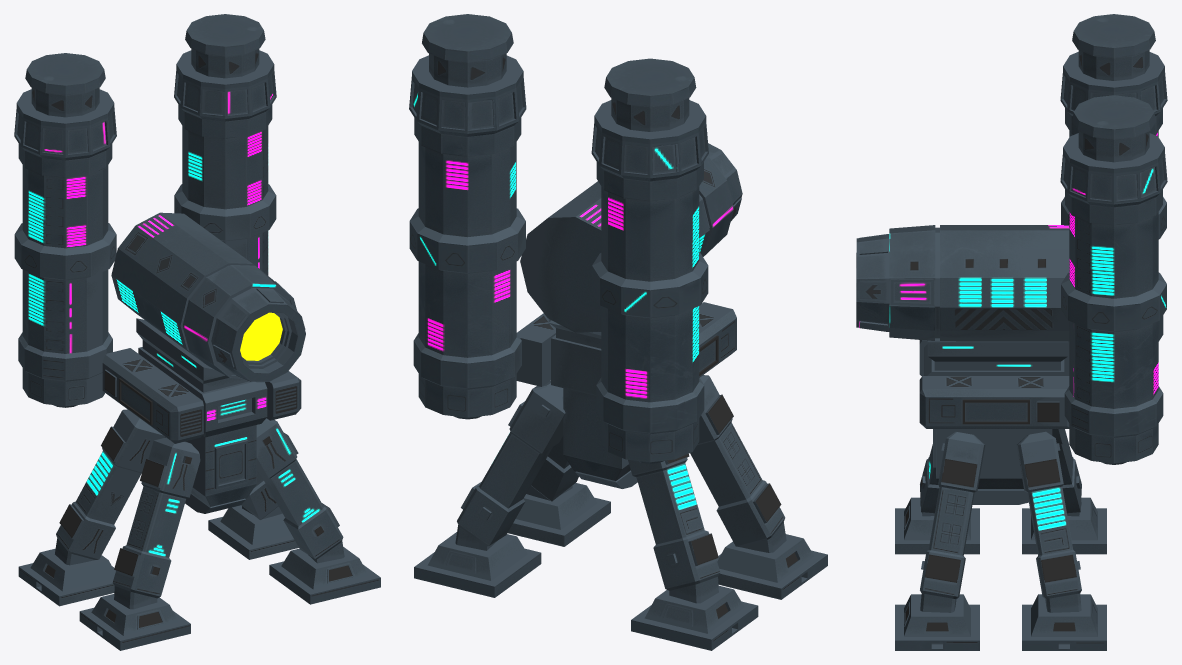
Rendered from fire_gun_tower (1).fbx.
The picture shows the model from 3 angles, left to right: view 1: azimuth 30°, elevation 25°; view 2: azimuth 150°, elevation 25°; view 3: azimuth 270°, elevation 25°; orthographic projection. The views are drawn at different scales.
Parts seen in each view (by area): view 1: Cylinder.001, Cylinder.004, Cylinder.008, Cylinder; view 2: Cylinder.001, Cylinder.004, Cylinder.008, Cylinder; view 3: Cylinder.001, Cylinder.008, Cylinder, Cylinder.004.
Part boxes in pixels (left/top/right/bottom): Cylinder.001: left=18, top=318, right=380, bottom=650; Cylinder.004: left=14, top=53, right=116, bottom=407; Cylinder.008: left=174, top=14, right=276, bottom=275; Cylinder: left=111, top=212, right=305, bottom=382; Cylinder.001: left=414, top=302, right=827, bottom=650; Cylinder.004: left=591, top=58, right=708, bottom=463; Cylinder.008: left=409, top=14, right=526, bottom=419; Cylinder: left=520, top=143, right=742, bottom=332; Cylinder.001: left=895, top=338, right=1106, bottom=650; Cylinder.008: left=1060, top=95, right=1167, bottom=464; Cylinder: left=856, top=225, right=1069, bottom=341; Cylinder.004: left=1060, top=14, right=1167, bottom=341.
Bounding box in the file's own units: 538 × 971 × 534.
Materials: 1 (1 with a texture image).
